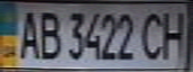2: (115, 9, 139, 61), (100, 9, 121, 61)
3: (63, 8, 84, 61)
4: (81, 8, 103, 61)
A: (12, 6, 42, 61)
B: (33, 7, 63, 61)
C: (139, 8, 169, 61)
H: (157, 7, 193, 61)
